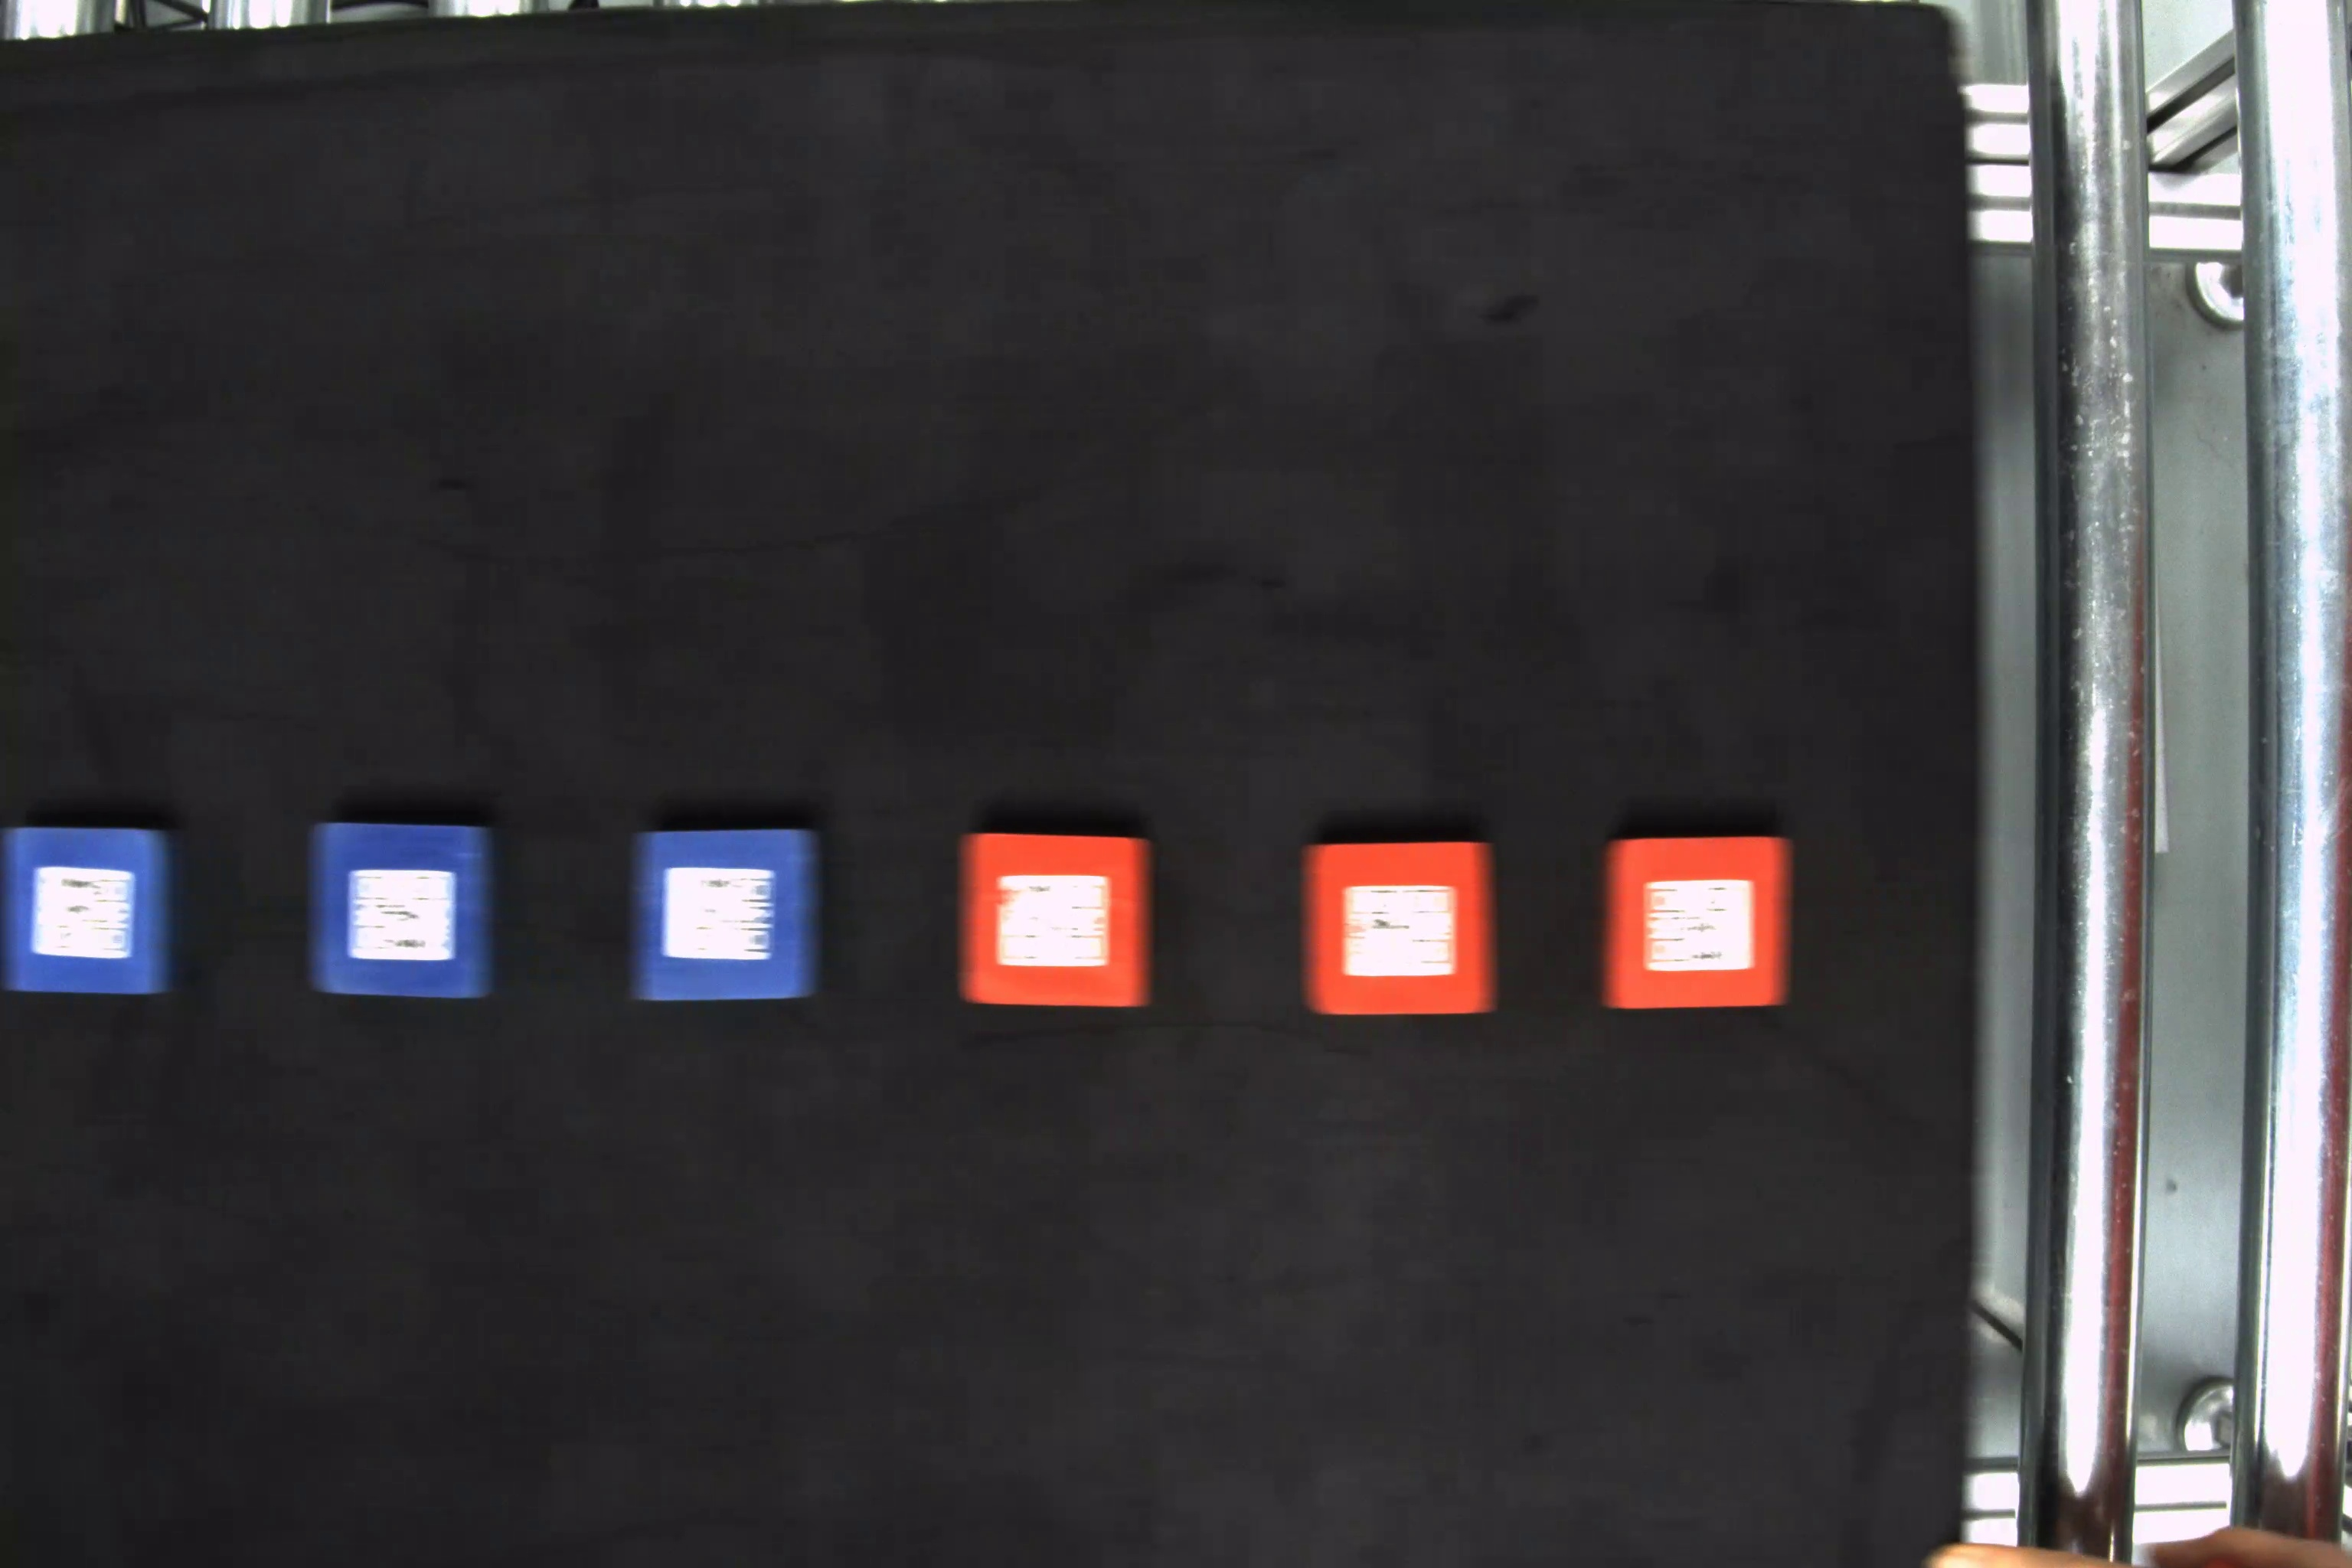wood: (948, 829, 1162, 1011), (630, 821, 833, 1004), (304, 822, 502, 1004), (1603, 831, 1799, 1011), (1305, 843, 1501, 1020), (3, 821, 180, 996)
